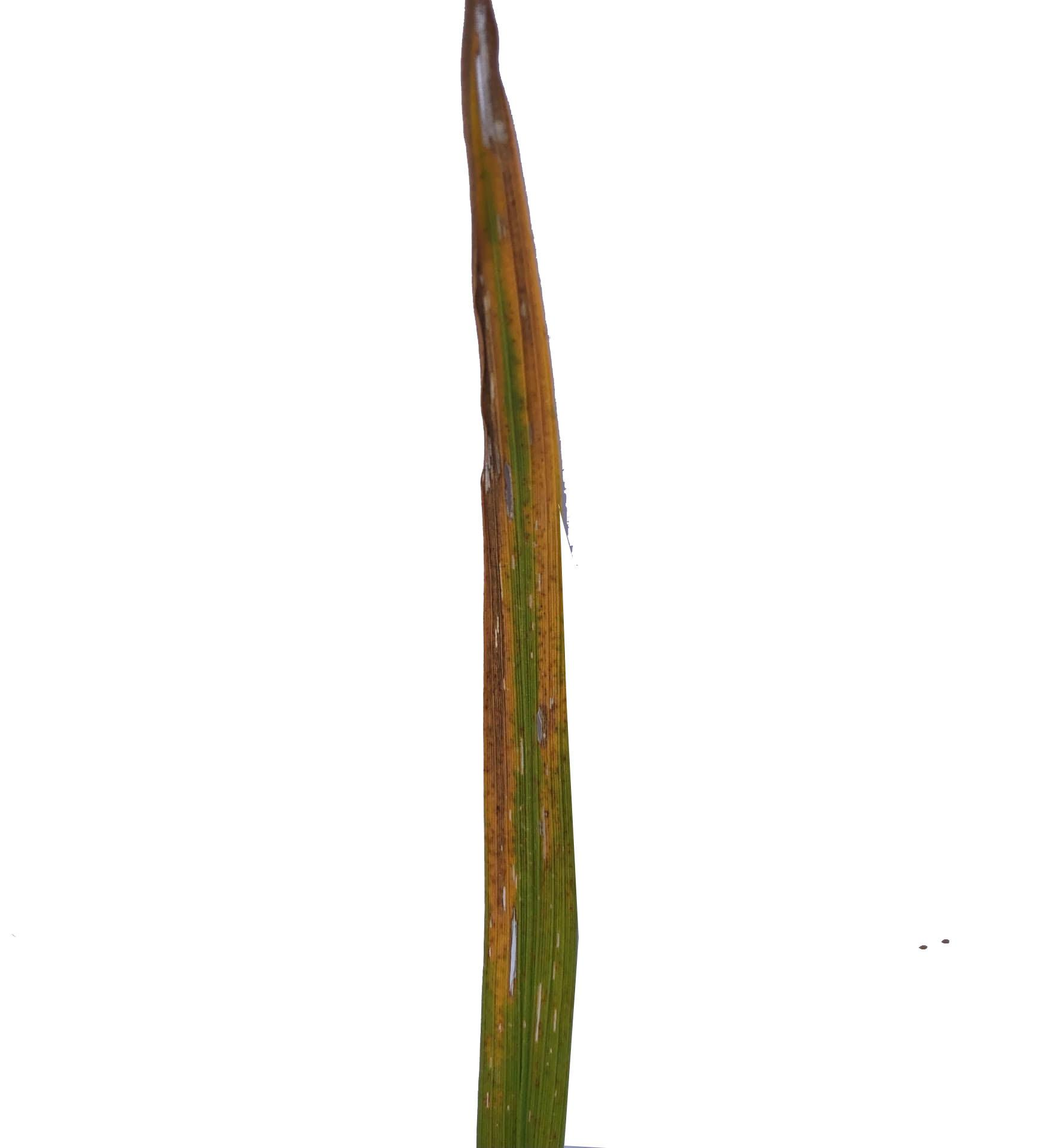Rice blast: (466, 341, 511, 831), (457, 0, 538, 170)
Tungro: (505, 173, 577, 882)
